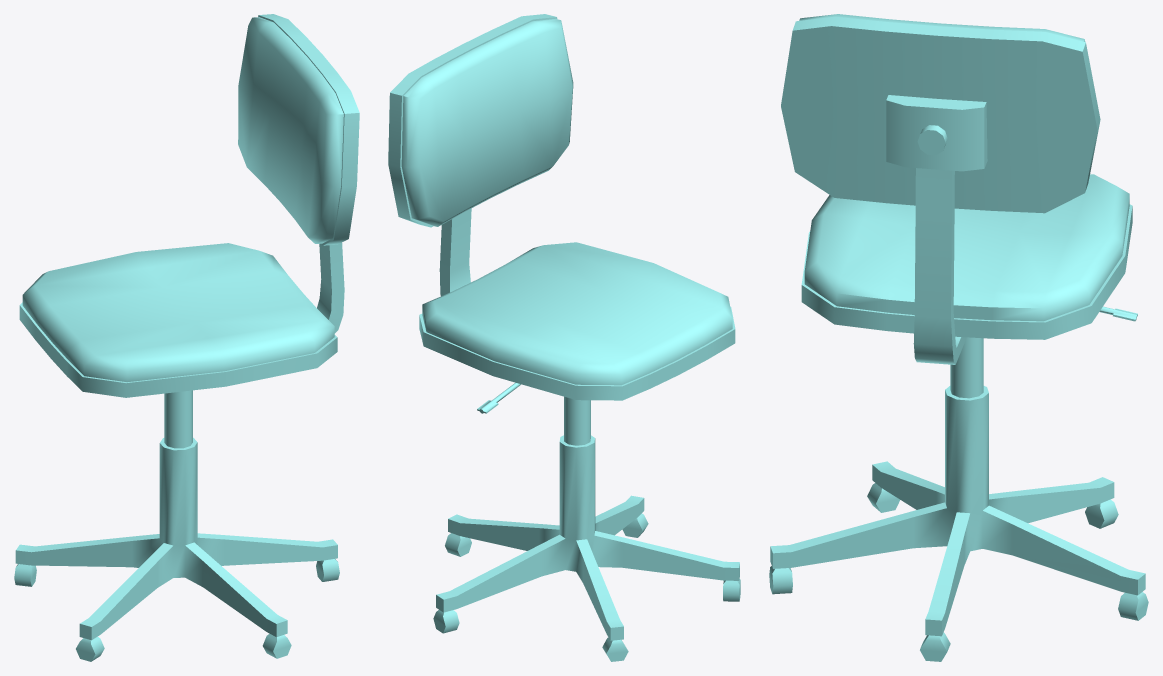
Rendered from chair_v6.glb.
3 renders of one model, left to right at view 1: azimuth 30°, elevation 25°; view 2: azimuth 150°, elevation 25°; view 3: azimuth 270°, elevation 25°, orthographic. The views are drawn at different scales.
Visible parts, largest first — view 1: Chair; view 2: Chair; view 3: Chair.
Boxes of the visible parts, box(x1,y1,x2,y2) form: Chair: box(14, 14, 359, 661); Chair: box(388, 14, 740, 661); Chair: box(769, 14, 1148, 661).
Bounding box in the file's own units: 1.21 × 2.12 × 1.17.
